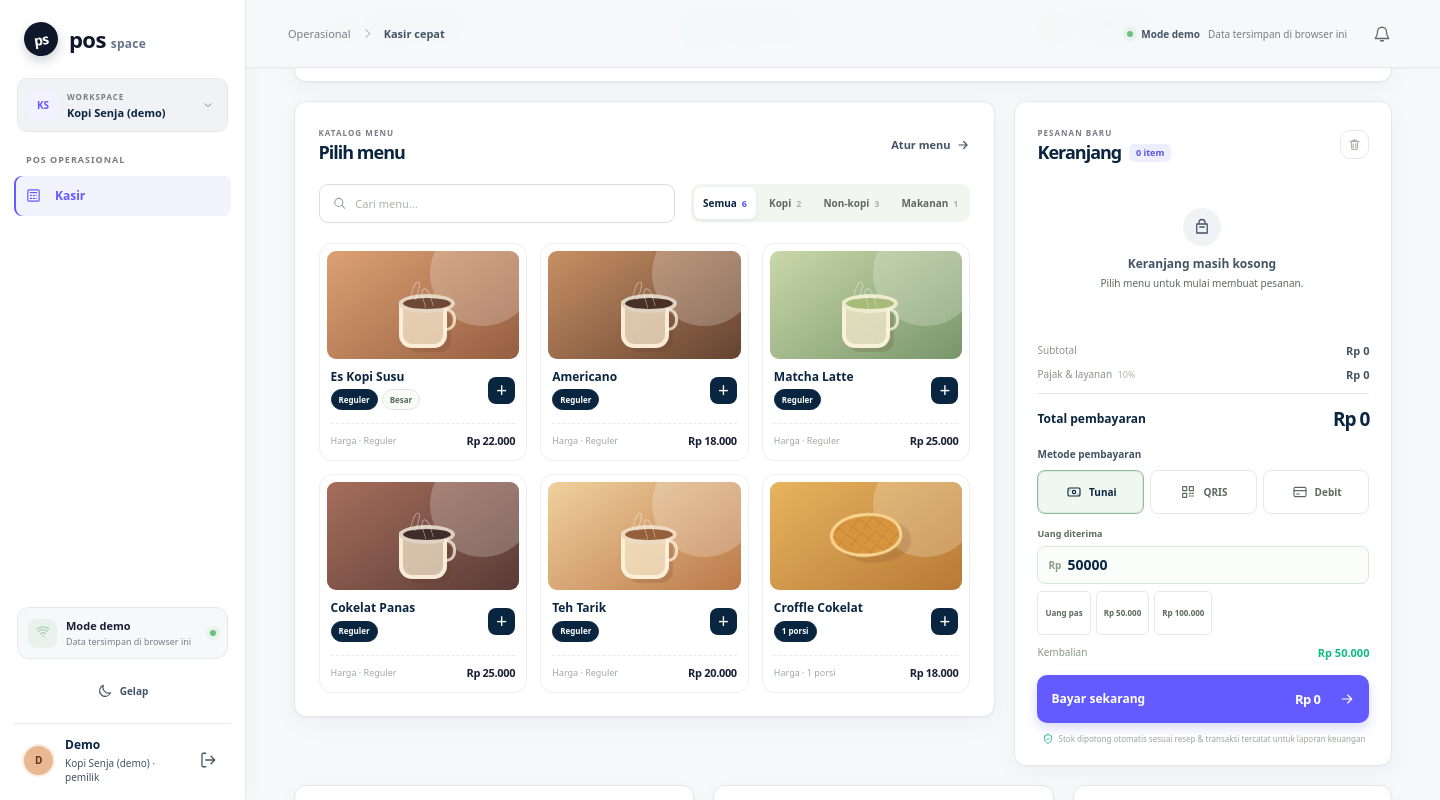
Kasir cepat (alur POS via /demo) › ganti varian produk mengubah harga
(page scrolled)
Click the button "Besar" at x=402, y=400, box [382,389,421,410]
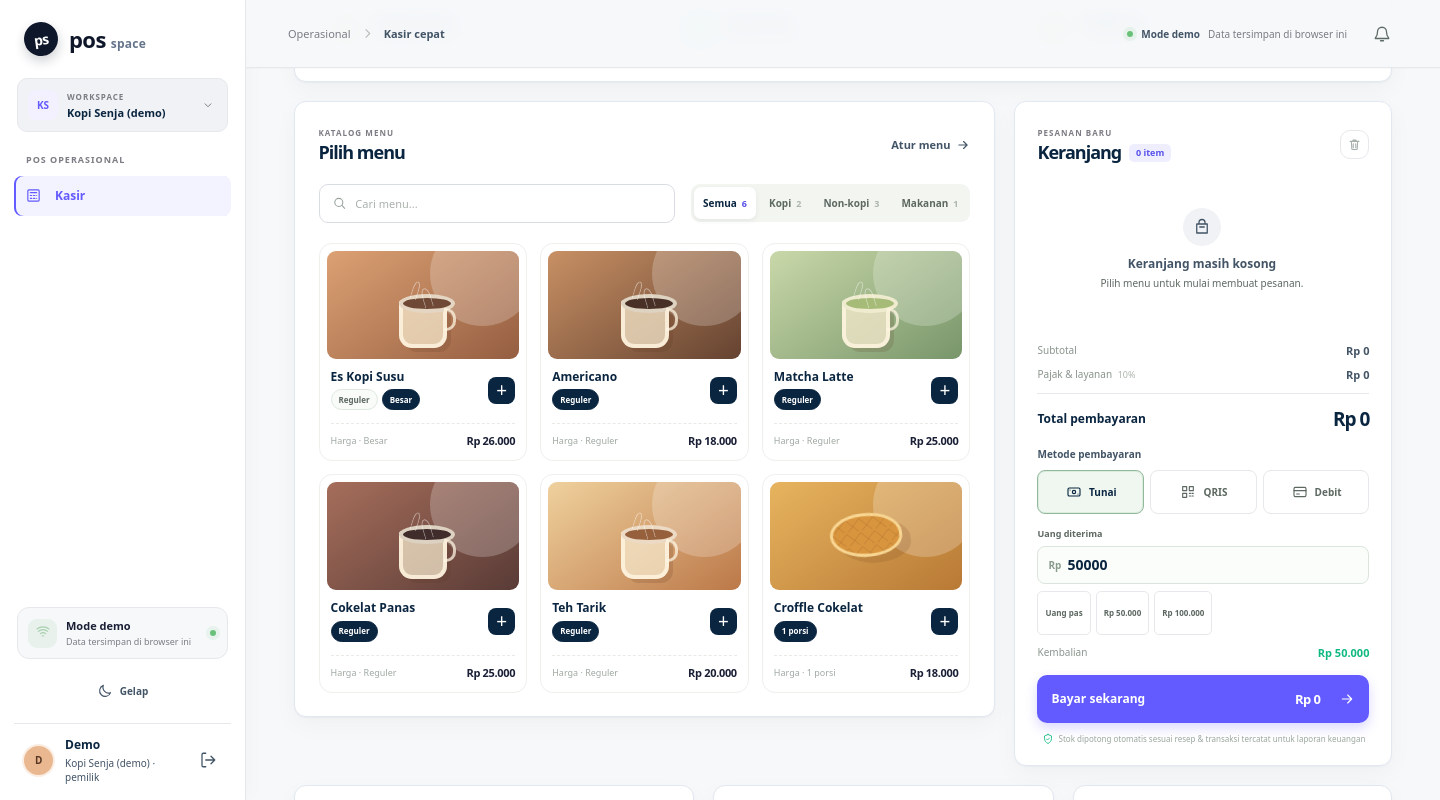
Click the button "+" in the row of "Es Kopi Susu" at x=502, y=391, box [488,377,515,404]
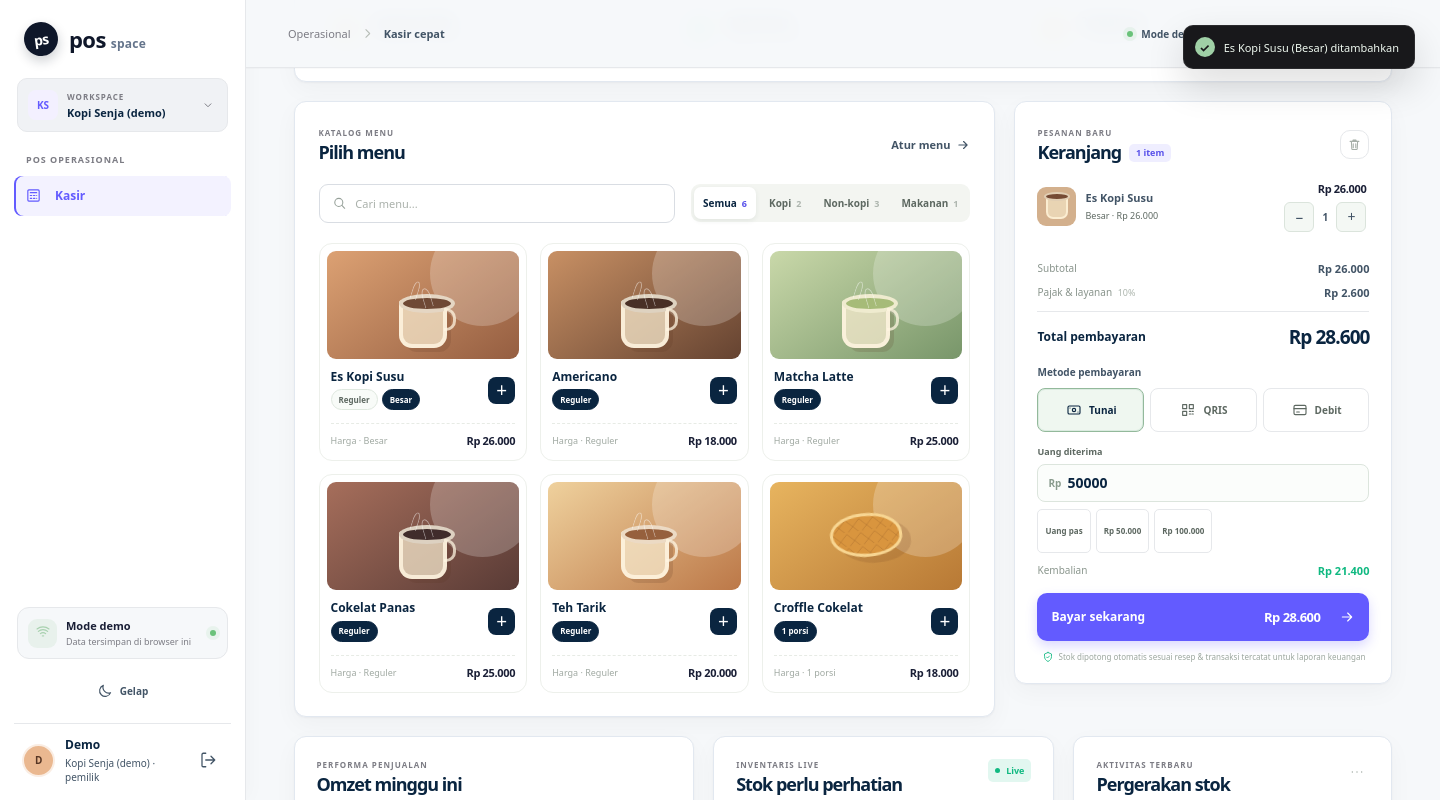
Now the text "Rp 28.600" next to "Total pembayaran" is shown, box [1289,324,1370,350]
Now the text with class "cart-item" shows "Besar", box [1085,209,1158,222]
